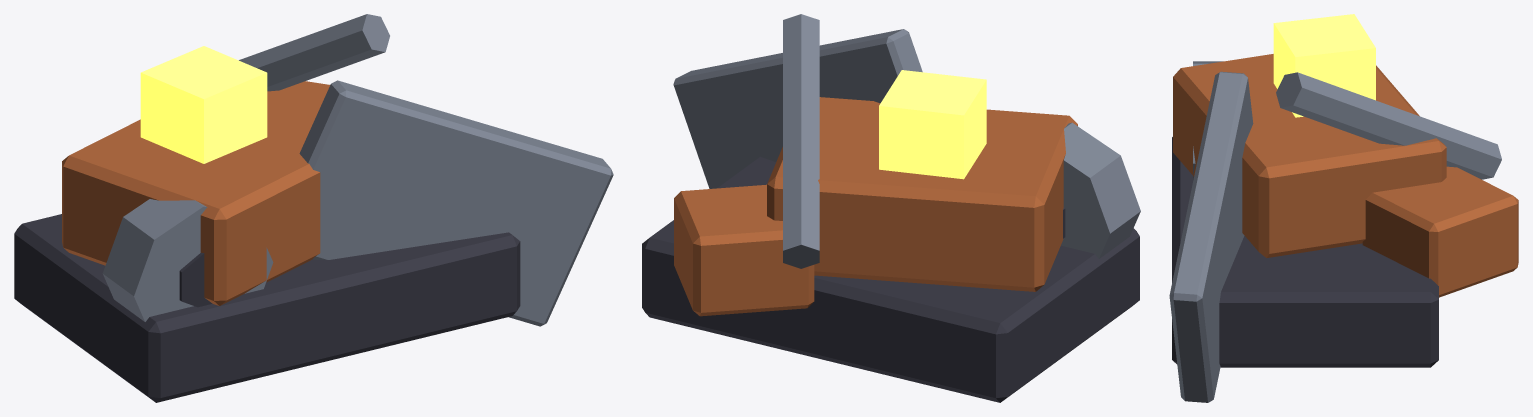
File: scrap_pile.fbx
The picture shows the model from 3 angles, left to right: view 1: azimuth 30°, elevation 25°; view 2: azimuth 150°, elevation 25°; view 3: azimuth 270°, elevation 25°; orthographic projection. The views are drawn at different scales.
Visible parts, largest first — view 1: Scrap_pile; view 2: Scrap_pile; view 3: Scrap_pile.
Part boxes in pixels (x1,y1,x2,y2): Scrap_pile: [14, 14, 613, 402]; Scrap_pile: [642, 14, 1140, 402]; Scrap_pile: [1169, 14, 1518, 402].
Size of the model in its own units: 3.05 by 1.83 by 2.09.
